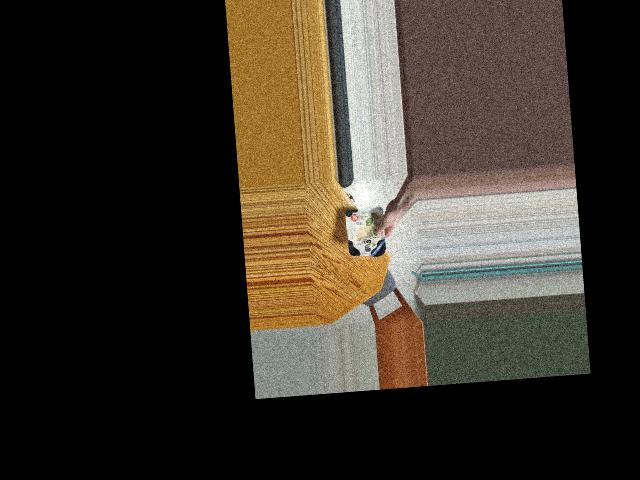cheese: (345, 203, 389, 258)
